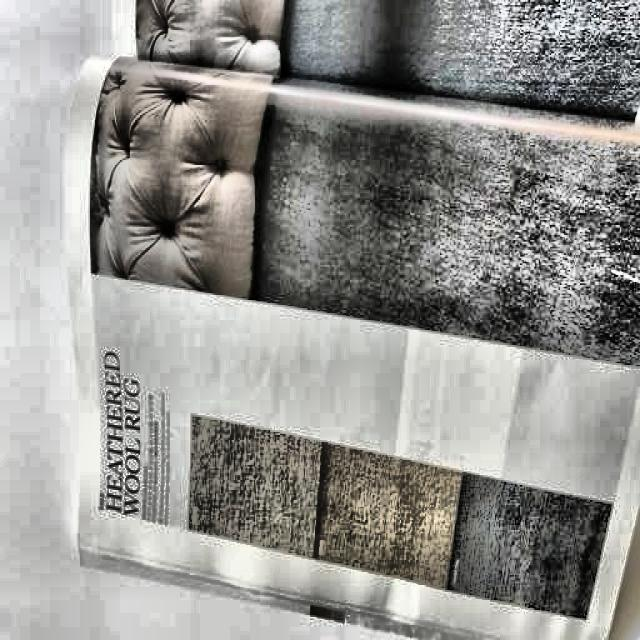paper: (76, 1, 640, 640)
